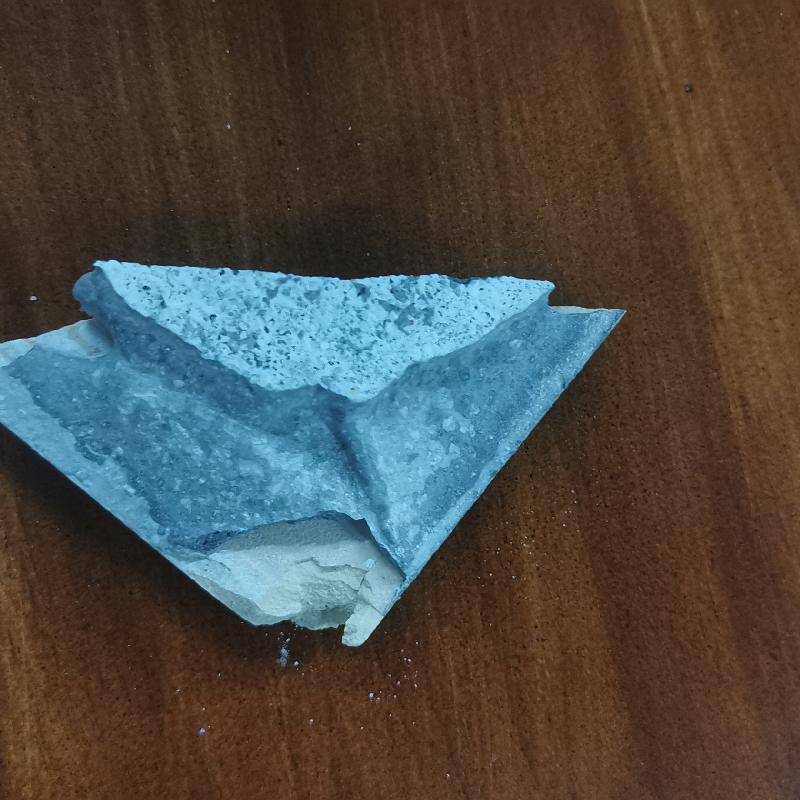tile: (8, 255, 634, 653)
